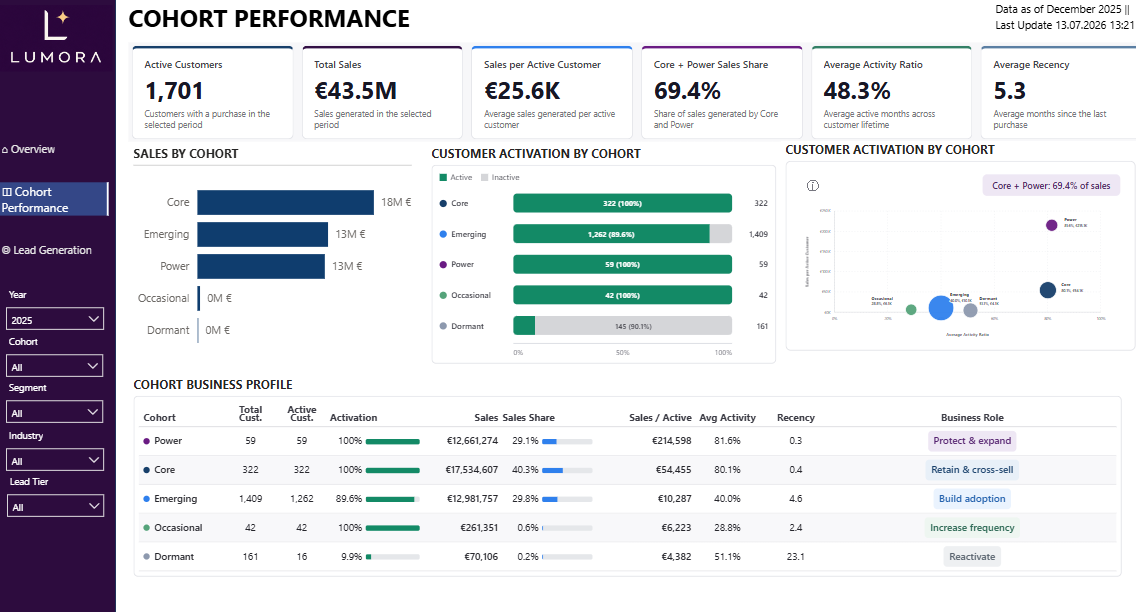

The dashboard page shown, as its layout file describes it:
{"tool":"powerbi","page":{"name":"◫ Cohort Performance","canvas":[1280,720],"ordinal":1},"visuals":[{"type":"shape","box":[0,0,132.2,720],"z":0},{"type":"image","box":[3,0,125,94],"z":1000},{"type":"pageNavigator","box":[0,149.9,124.4,153.1],"z":2000},{"type":"slicer","fields":{"Values":["dimCalendar.year"]},"box":[0,318.9,128.6,65.9],"z":3000},{"type":"htmlContent443BE3AD55E043BF878BED274D3A6855","fields":{"content":["_measures.Update Card Label"]},"box":[1104,0,176,47],"z":4000},{"type":"textbox","box":[141.6,0,672.8,56.5],"z":5000},{"type":"slicer","fields":{"Values":["dimCustomer.cluster_cohort_ML"]},"box":[0,371.2,127.5,66.2],"z":7000},{"type":"slicer","fields":{"Values":["dimCustomer.Customer_Segment"]},"box":[0,422.5,127.5,66.2],"z":8000},{"type":"htmlContent443BE3AD55E043BF878BED274D3A6855","fields":{"content":["_measures.Cohort Performance KPI HTML"]},"box":[141.4,47.1,1138.6,118.6],"z":9000},{"type":"htmlContent443BE3AD55E043BF878BED274D3A6855","title":"CUSTOMER ACTIVATION BY COHORT","fields":{"content":["_measures.Customer Activation by Cohort HTML"]},"box":[477.8,165.6,393.3,256.7],"z":10000},{"type":"htmlContent443BE3AD55E043BF878BED274D3A6855","title":"CUSTOMER ACTIVATION BY COHORT","fields":{"content":["_measures.Cohort Health Matrix HTML"]},"box":[871.1,161.1,398.9,243.3],"z":11000},{"type":"slicer","fields":{"Values":["dimCustomer.Industry"]},"box":[0,475,129,66],"z":12000},{"type":"htmlContent443BE3AD55E043BF878BED274D3A6855","title":"COHORT BUSINESS PROFILE","fields":{"content":["_measures.Cohort Business Profile HTML"]},"box":[146.7,422.2,1107.8,288.9],"z":13000},{"type":"slicer","fields":{"Values":["leadsLong.Customer_Lead_Tier"]},"box":[1,527,128,66],"z":14000},{"type":"clusteredBarChart","title":"SALES BY COHORT","fields":{"Y":["_measures.Sales"],"Category":["dimCustomer.cluster_cohort_ML"]},"box":[146.7,165.6,318.9,238.9],"z":14001}]}

Visuals, with their boxes on the page's 1280x720 design canvas (x1, y1, x2, y2). These are canvas units, not pixel positions in the 1136x612 screenshot, which may show the page scaled, cropped or inside an application window:
shape: x1=0, y1=0, x2=132, y2=720
image: x1=3, y1=0, x2=128, y2=94
pageNavigator: x1=0, y1=150, x2=124, y2=303
slicer - dimCalendar.year: x1=0, y1=319, x2=129, y2=385
htmlContent443BE3AD55E043BF878BED274D3A6855 - _measures.Update Card Label: x1=1104, y1=0, x2=1280, y2=47
textbox: x1=142, y1=0, x2=814, y2=56
slicer - dimCustomer.cluster_cohort_ML: x1=0, y1=371, x2=128, y2=437
slicer - dimCustomer.Customer_Segment: x1=0, y1=422, x2=128, y2=489
htmlContent443BE3AD55E043BF878BED274D3A6855 - _measures.Cohort Performance KPI HTML: x1=141, y1=47, x2=1280, y2=166
"CUSTOMER ACTIVATION BY COHORT" htmlContent443BE3AD55E043BF878BED274D3A6855: x1=478, y1=166, x2=871, y2=422
"CUSTOMER ACTIVATION BY COHORT" htmlContent443BE3AD55E043BF878BED274D3A6855: x1=871, y1=161, x2=1270, y2=404
slicer - dimCustomer.Industry: x1=0, y1=475, x2=129, y2=541
"COHORT BUSINESS PROFILE" htmlContent443BE3AD55E043BF878BED274D3A6855: x1=147, y1=422, x2=1254, y2=711
slicer - leadsLong.Customer_Lead_Tier: x1=1, y1=527, x2=129, y2=593
"SALES BY COHORT" clusteredBarChart: x1=147, y1=166, x2=466, y2=404
